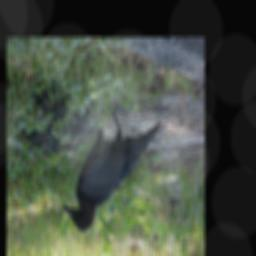Crow: (62, 103, 168, 232)
